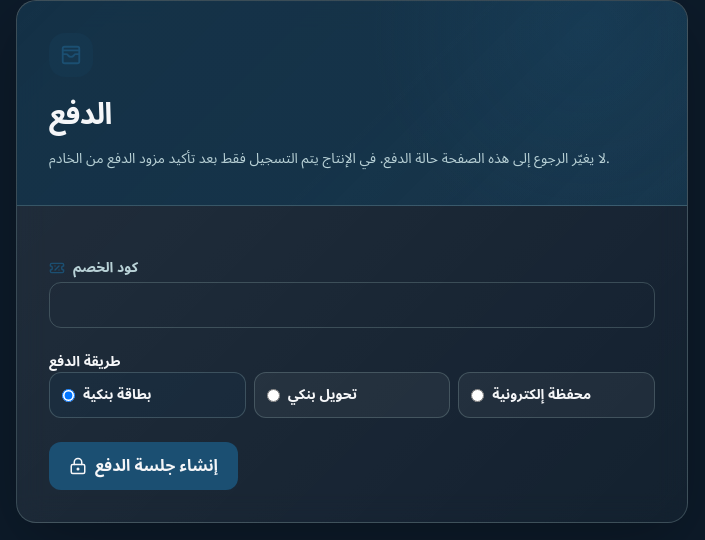
Test: T7-A6.4 ar UI and financial contracts › checkout pending preserves error or disabled behavior
The width and height of the screenshot is (705, 540).
Click the button "إنشاء جلسة الدفع" at (143, 466), box x1=49 y1=442 x2=238 y2=490
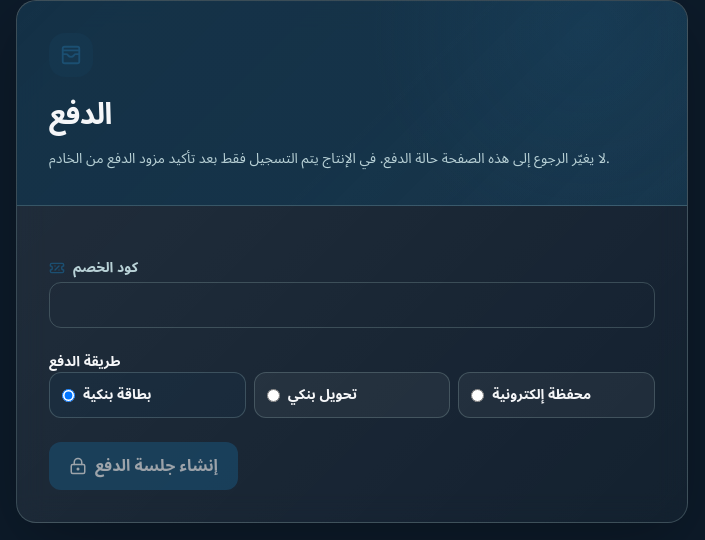
Expected: the button "إنشاء جلسة الدفع" is disabled, x1=49 y1=442 x2=238 y2=490
